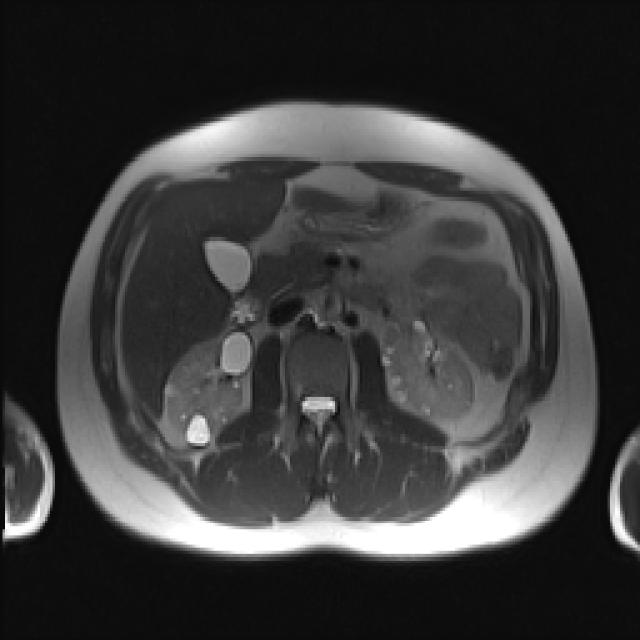sag: (162, 325, 255, 451)
sol: (382, 313, 476, 417)
